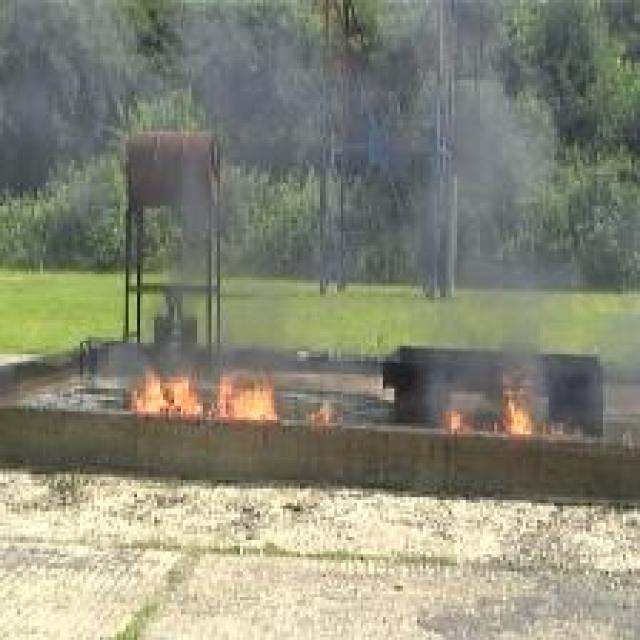Fire: (130, 370, 204, 416), (213, 373, 278, 418), (498, 380, 533, 434)
